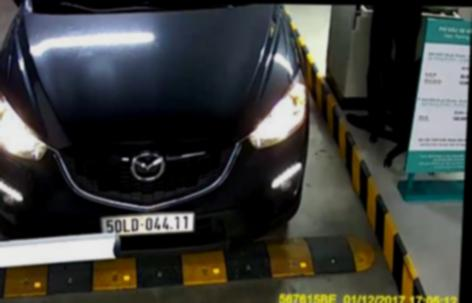License_Plate: (101, 213, 198, 233)
